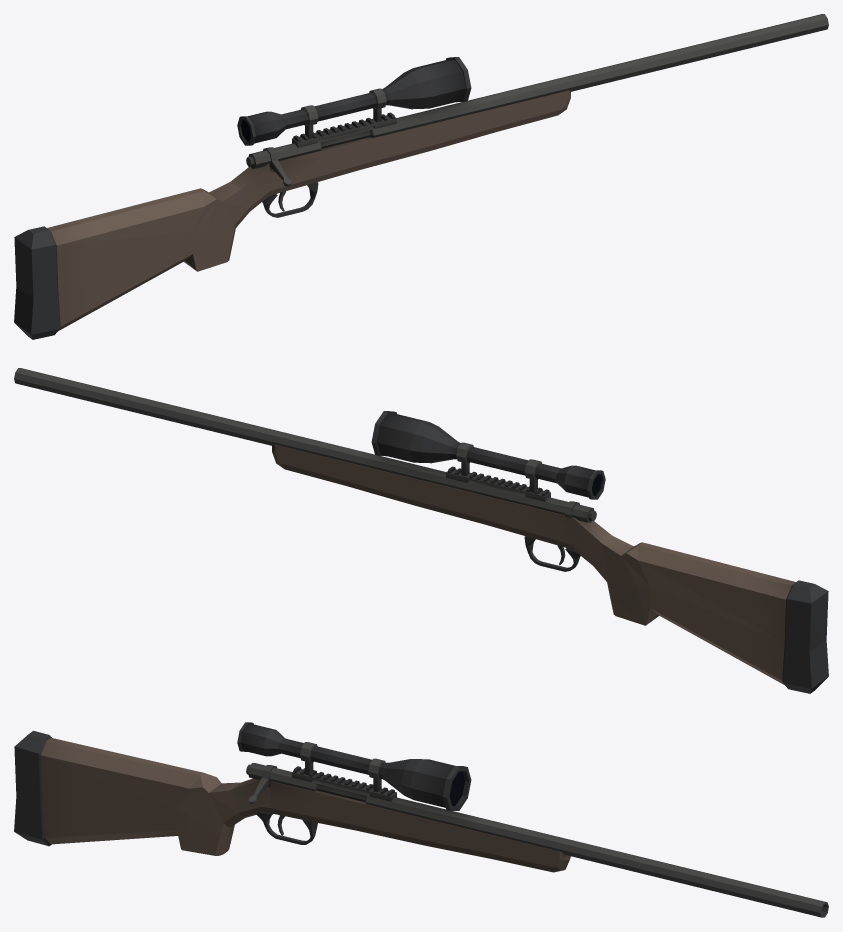
The model's file is q-sniperrifle-6.glb.
The picture shows the model from 3 angles, top to bottom: view 1: azimuth 30°, elevation 25°; view 2: azimuth 150°, elevation 25°; view 3: azimuth 330°, elevation 25°; orthographic projection.
Visible parts, largest first — view 1: body; view 2: body; view 3: body.
Part boxes in pixels (bbox=[...]): body: bbox=[14, 14, 828, 339]; body: bbox=[14, 368, 828, 693]; body: bbox=[14, 722, 828, 917].
Size of the model in its own units: 1.2 by 0.2528 by 0.0822.
